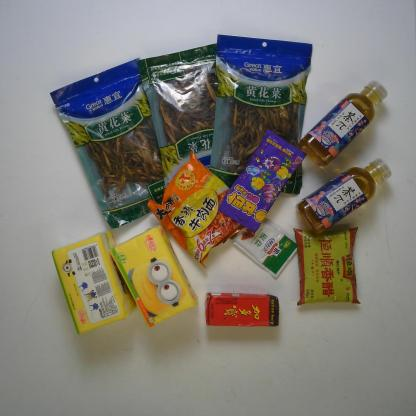Candy: (218, 128, 307, 232)
Dried Food: (48, 57, 166, 230), (209, 34, 313, 194), (138, 42, 216, 190)
Drink: (298, 80, 388, 169), (296, 158, 392, 235), (204, 292, 279, 327)
Instant Noodles: (146, 151, 245, 269)
Seasoner: (292, 226, 361, 307), (229, 216, 298, 280)
Tissue: (108, 224, 198, 331), (50, 231, 138, 337)
